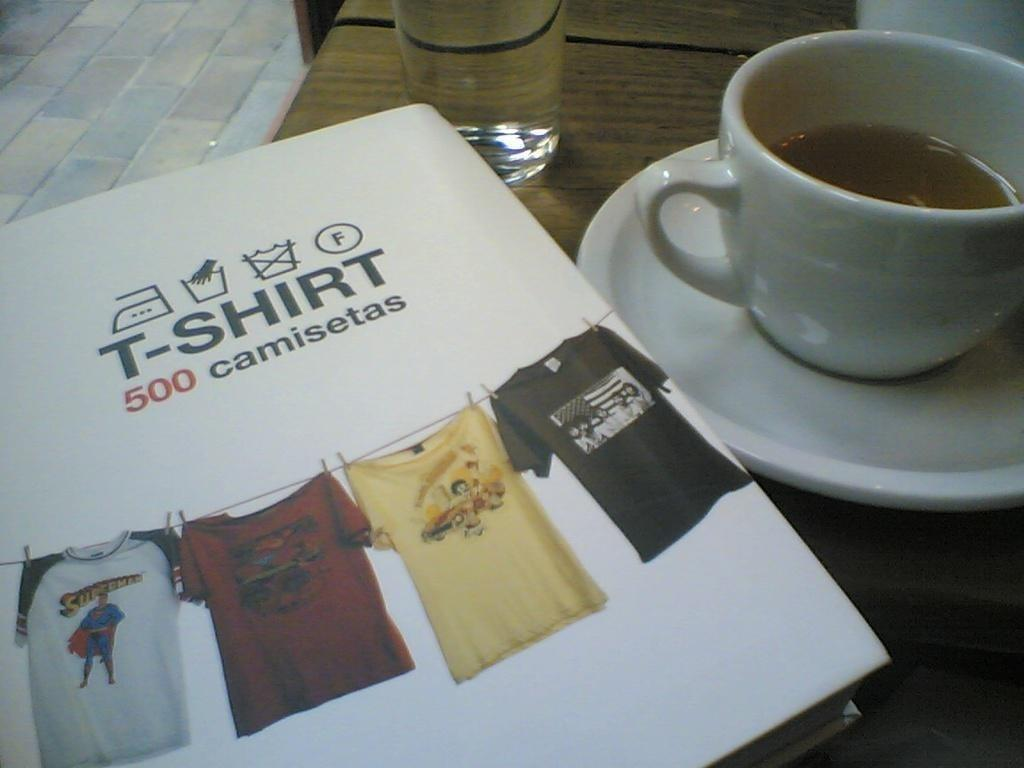cup-handle: (637, 30, 1023, 383)
glass-normal: (393, 0, 565, 183)
